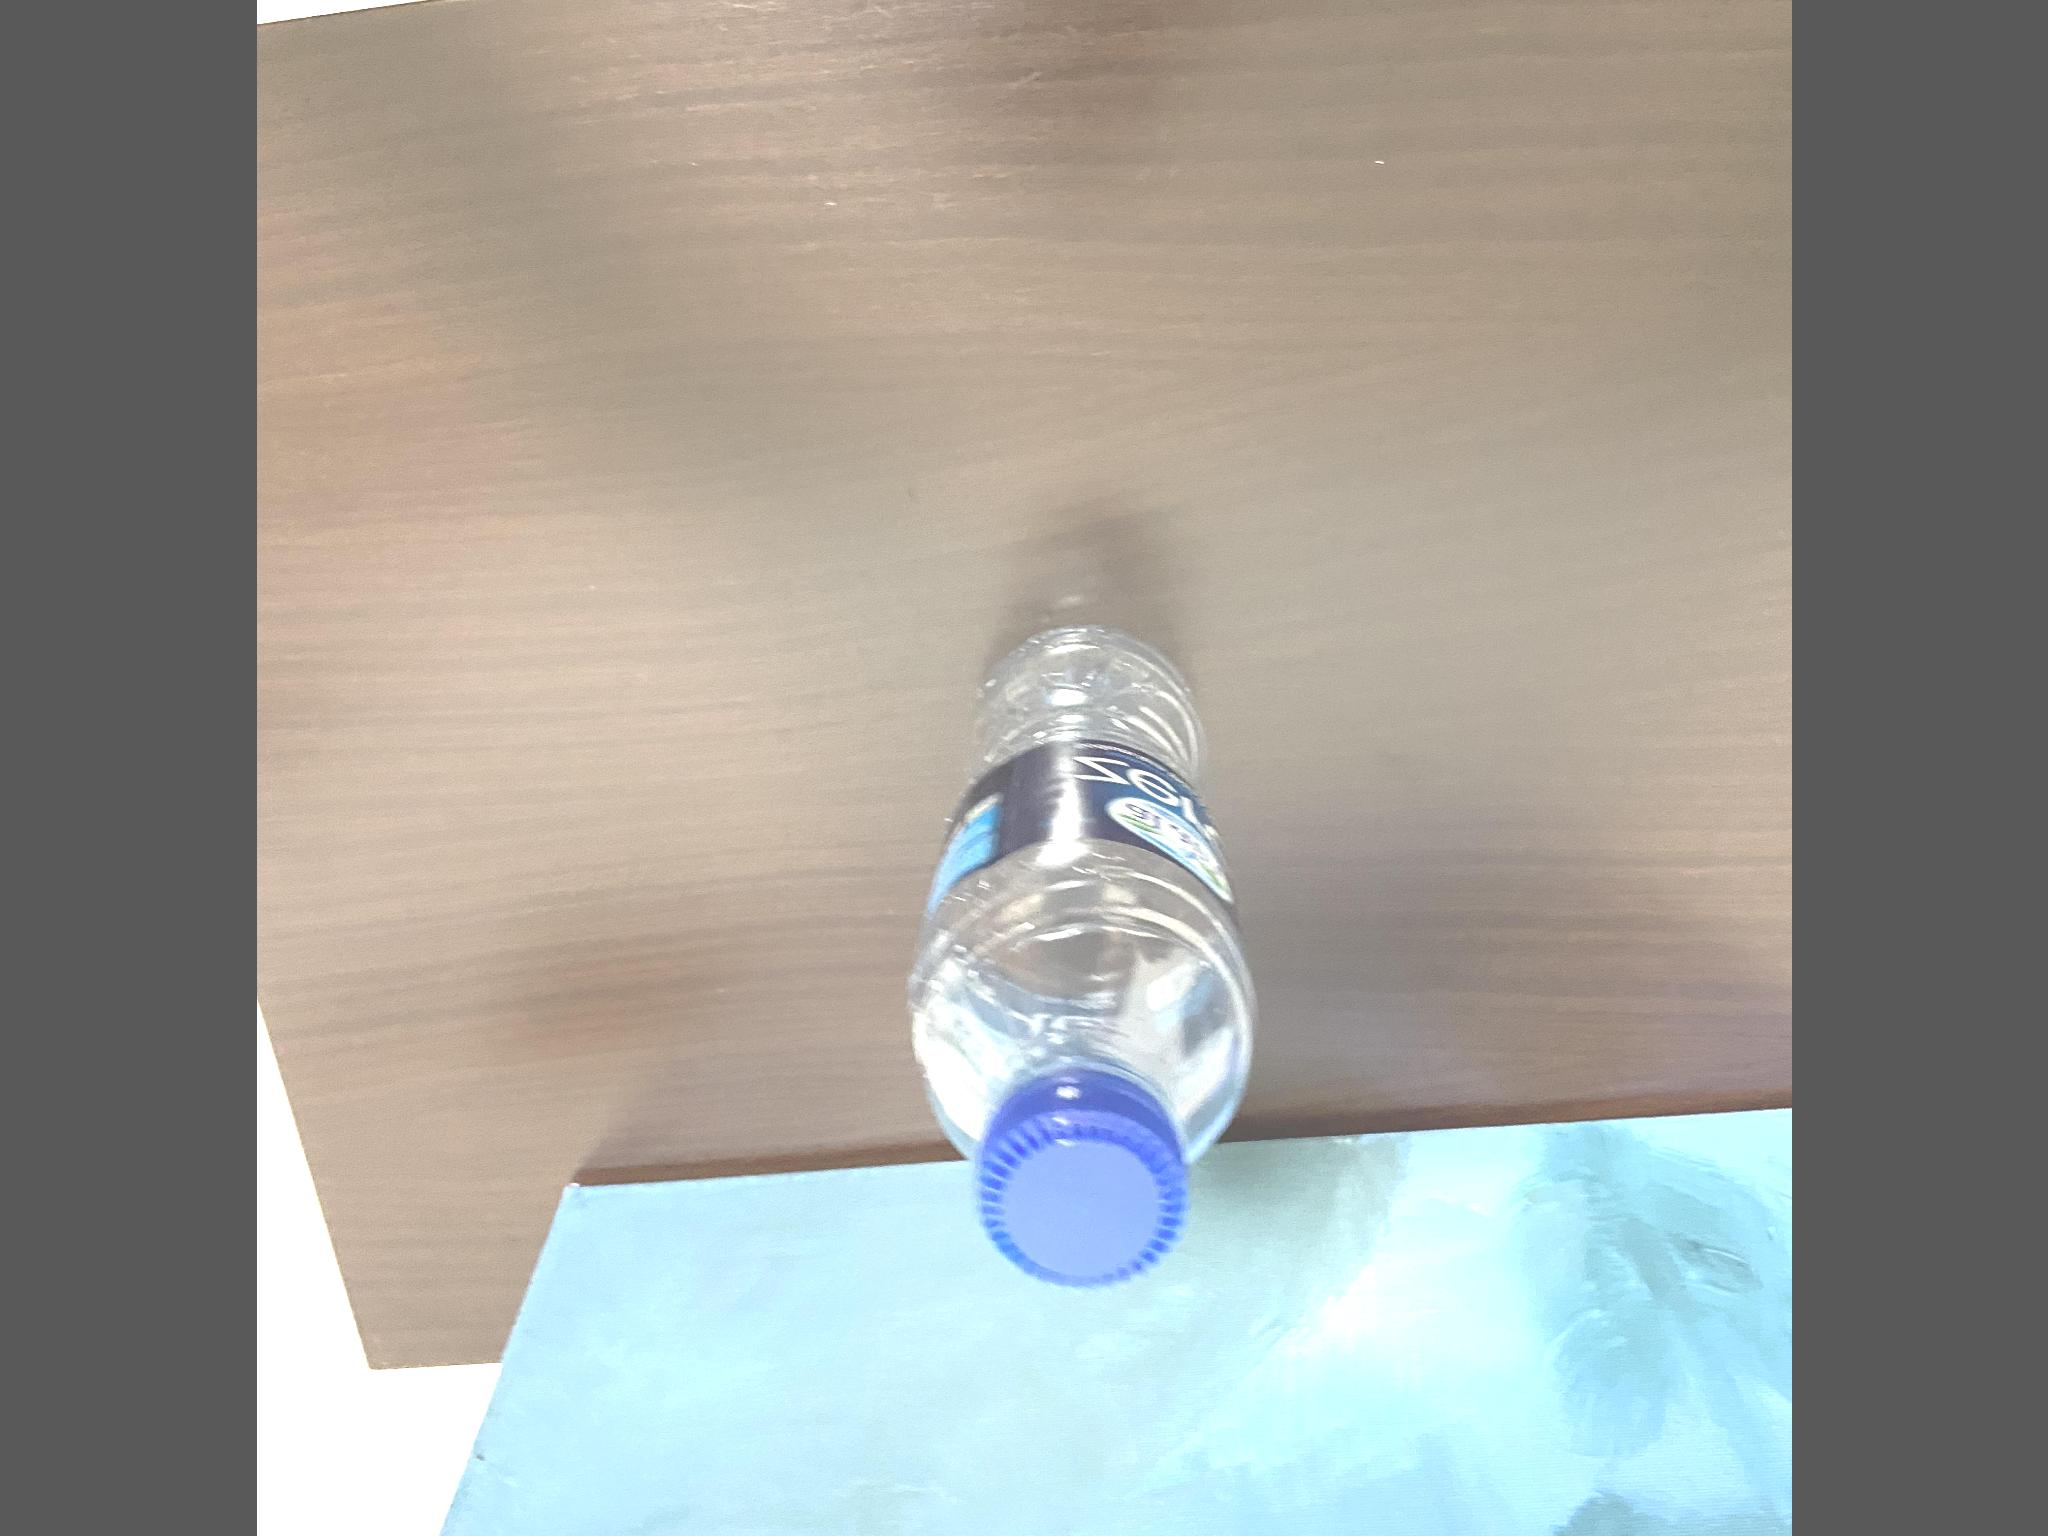bottle: (890, 588, 1278, 1302)
